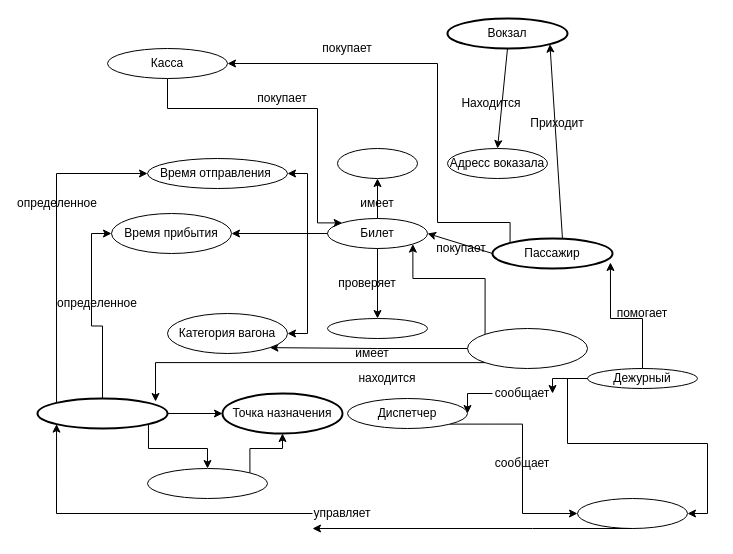
Some shapes in this 733 by 554 pixel diagram are drawn without their labels. The shapes that lost their labels are listed below. From the top down, each one's centre as x and y in pixels, then its label:
point (377, 163): Цена
point (377, 328): Проводник
point (527, 348): Вагон
point (102, 413): Поезд
point (207, 483): Маршрут поезда
point (632, 513): Машинист
